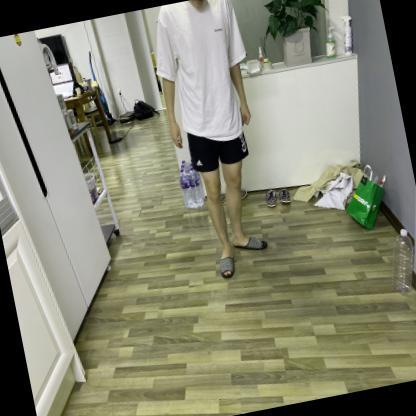no_safety-shoe: (226, 222, 275, 264), (210, 242, 241, 291)
